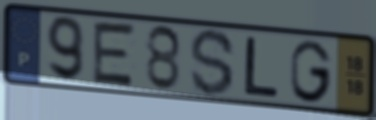8: (144, 24, 184, 93)
9: (44, 14, 87, 84)
E: (90, 19, 139, 89)
G: (289, 38, 335, 105)
L: (242, 34, 281, 100)
S: (188, 26, 238, 98)
